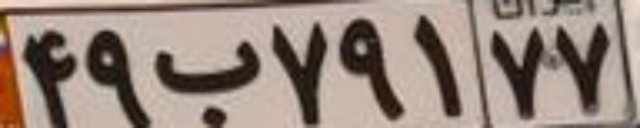1: (410, 12, 469, 116)
4: (22, 29, 78, 127)
7: (267, 17, 333, 125), (554, 19, 609, 113), (490, 24, 543, 120)
9: (340, 16, 405, 120), (87, 27, 151, 126)
be: (156, 38, 263, 126)
